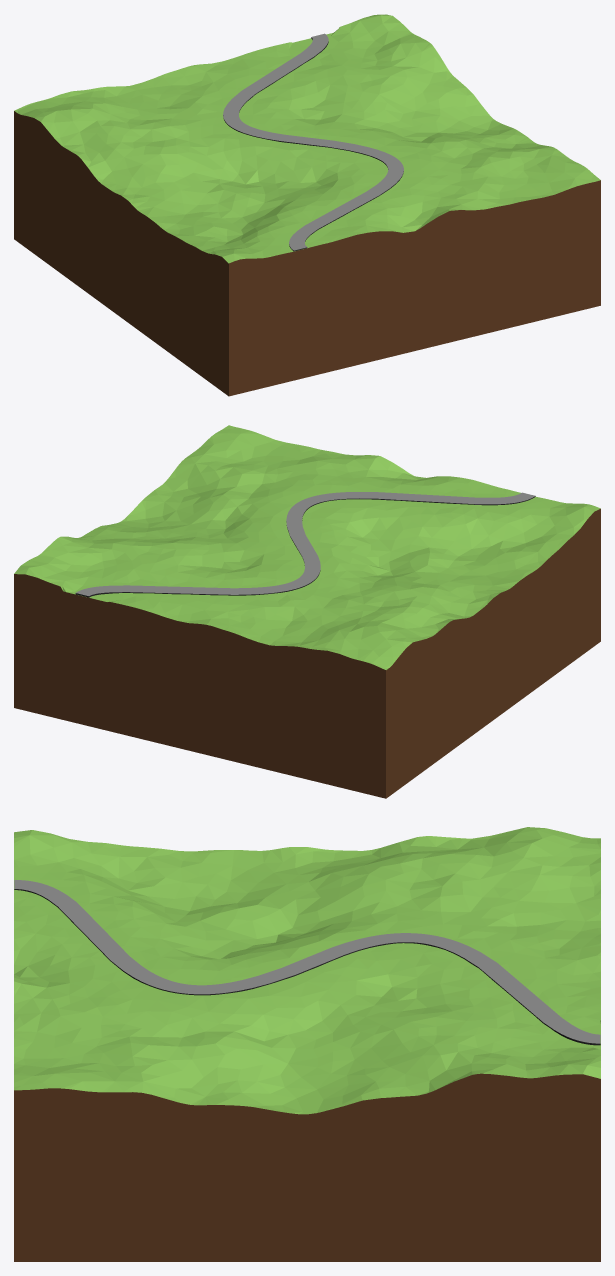
The model's file is Terrain.fbx.
3 renders of one model, top to bottom at view 1: azimuth 30°, elevation 25°; view 2: azimuth 150°, elevation 25°; view 3: azimuth 270°, elevation 25°, orthographic. The views are drawn at different scales.
Parts seen in each view (by area): view 1: ChunkPrefab_Clone_, BaseChunkPrefab_Clone__2, BaseChunkPrefab_Clone_, Road; view 2: ChunkPrefab_Clone_, BaseChunkPrefab_Clone__3, BaseChunkPrefab_Clone_, Road; view 3: ChunkPrefab_Clone_, BaseChunkPrefab_Clone__1, Road.
Boxes of the visible parts, x1,y1,x2,y2 form: ChunkPrefab_Clone_: [14, 14, 600, 263]; BaseChunkPrefab_Clone__2: [229, 180, 600, 396]; BaseChunkPrefab_Clone_: [14, 111, 228, 396]; Road: [223, 33, 403, 251]; ChunkPrefab_Clone_: [14, 425, 600, 669]; BaseChunkPrefab_Clone__3: [14, 574, 385, 798]; BaseChunkPrefab_Clone_: [386, 508, 600, 798]; Road: [75, 492, 535, 597]; ChunkPrefab_Clone_: [14, 827, 600, 1114]; BaseChunkPrefab_Clone__1: [14, 1073, 600, 1261]; Road: [14, 880, 600, 1045].
Bounding box in the file's own units: 30000 × 10822 × 30000.
